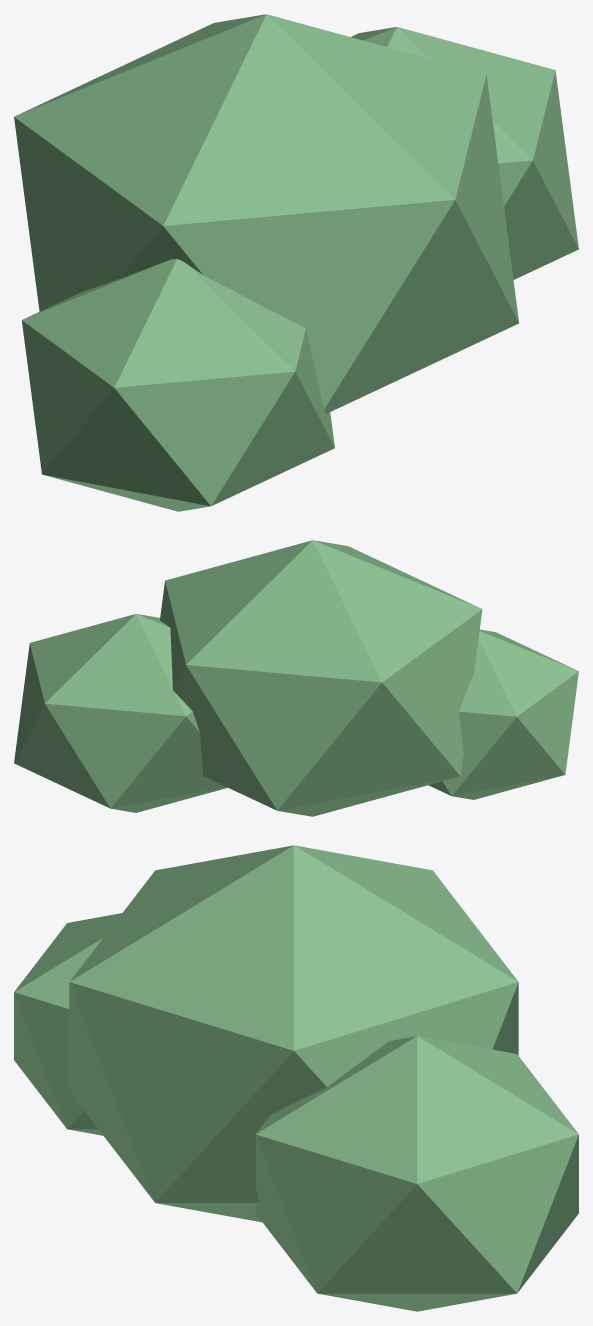
File: bush.glb
3 renders of one model, top to bottom at view 1: azimuth 30°, elevation 25°; view 2: azimuth 150°, elevation 25°; view 3: azimuth 270°, elevation 25°, orthographic. The views are drawn at different scales.
Visible parts, largest first — view 1: Bush1, Bush3, Bush2; view 2: Bush1, Bush2, Bush3; view 3: Bush1, Bush2, Bush3.
Boxes of the visible parts, x1,y1,x2,y2 form: Bush1: [14, 14, 518, 413]; Bush3: [21, 259, 334, 511]; Bush2: [351, 27, 578, 279]; Bush1: [160, 540, 482, 816]; Bush2: [14, 614, 227, 812]; Bush3: [428, 629, 578, 799]; Bush1: [69, 845, 518, 1222]; Bush2: [255, 1036, 578, 1311]; Bush3: [14, 913, 121, 1135].
Bounding box in the file's own units: 0.6396 × 0.384 × 0.5136.
